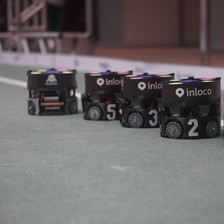robot: (157, 74, 224, 140), (24, 65, 80, 116), (118, 71, 162, 130), (80, 69, 121, 122)
